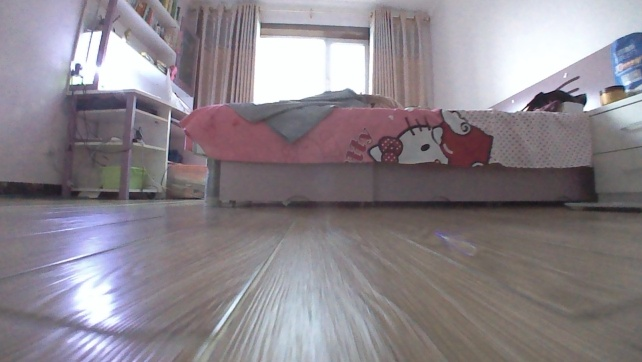bed: (172, 35, 631, 208)
